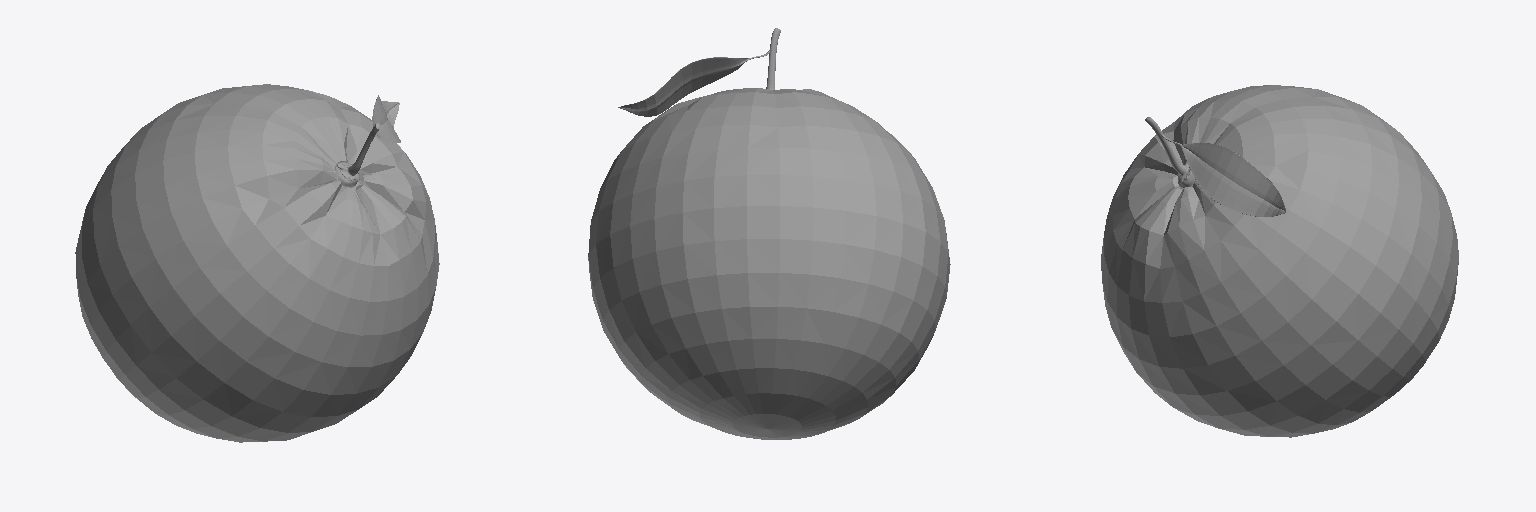
File: orange.obj
3 renders of one model, left to right at view 1: azimuth 30°, elevation 25°; view 2: azimuth 150°, elevation 25°; view 3: azimuth 270°, elevation 25°, orthographic.
Parts seen in each view (by area): view 1: orange_Sphere.002, orange_leaf_Plane.002, orange_tail_Sphere.003; view 2: orange_Sphere.002, orange_leaf_Plane.002; view 3: orange_Sphere.002, orange_leaf_Plane.002, orange_tail_Sphere.003.
Boxes of the visible parts, box(x1,y1,x2,y2) form: orange_Sphere.002: box(75, 84, 439, 442); orange_leaf_Plane.002: box(372, 95, 400, 142); orange_tail_Sphere.003: box(335, 123, 379, 187); orange_Sphere.002: box(588, 88, 950, 439); orange_leaf_Plane.002: box(618, 50, 769, 116); orange_Sphere.002: box(1101, 85, 1458, 437); orange_leaf_Plane.002: box(1161, 135, 1286, 216); orange_tail_Sphere.003: box(1145, 117, 1195, 187).
Bounding box in the file's own units: 1.82 × 1.83 × 1.78.